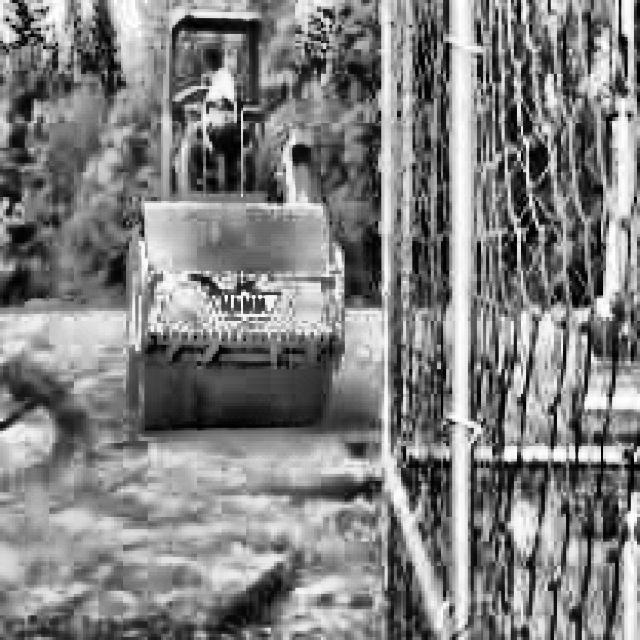excavator: (581, 0, 640, 507)
